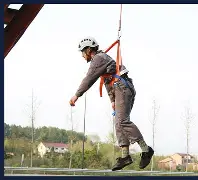safety belt: (86, 40, 131, 89)
